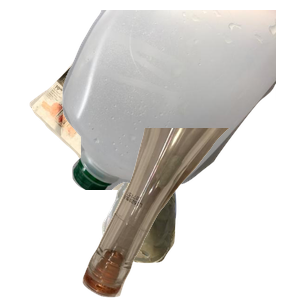glass: (80, 128, 300, 300)
paper: (27, 10, 230, 190)
plastic: (60, 10, 300, 190)
trash: (99, 155, 268, 300)
